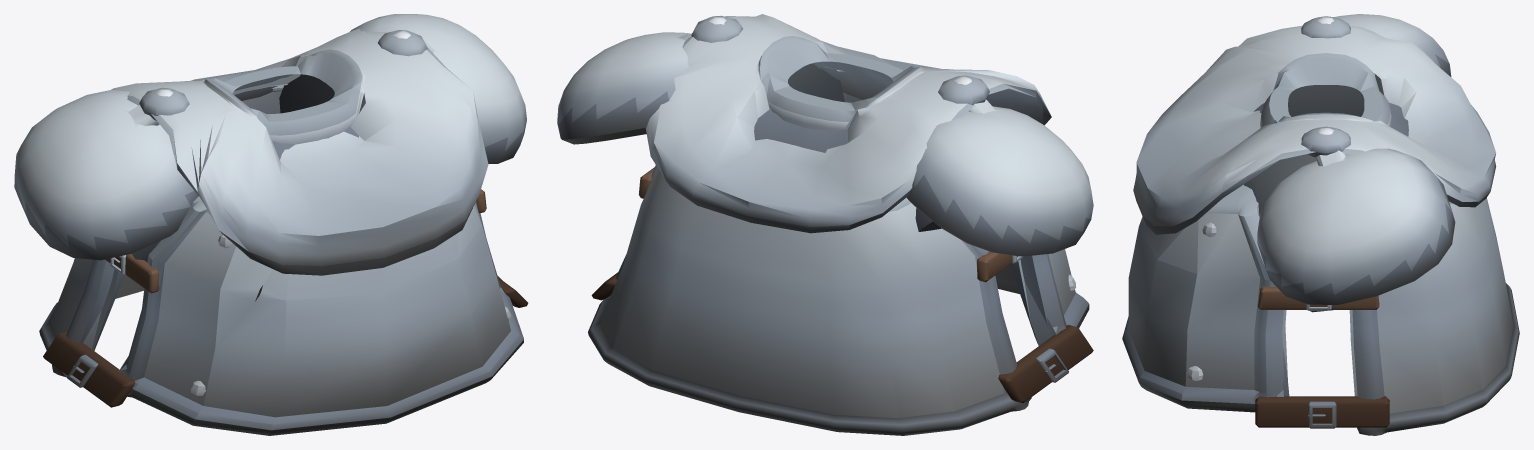
The model's file is body_armor_heavy.glb.
3 renders of one model, left to right at view 1: azimuth 30°, elevation 25°; view 2: azimuth 150°, elevation 25°; view 3: azimuth 270°, elevation 25°, orthographic. The views are drawn at different scales.
Parts seen in each view (by area): view 1: Item; view 2: Item; view 3: Item.
Boxes of the visible parts, x1,y1,x2,y2 form: Item: (14, 14, 528, 435); Item: (557, 14, 1093, 435); Item: (1122, 14, 1519, 435).
Size of the model in its own units: 1.06 by 0.6117 by 0.8047.
4 materials, 4 textured.
